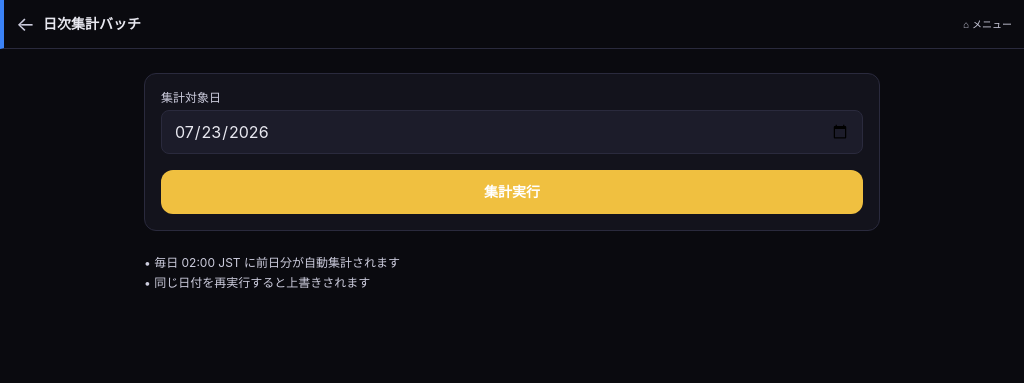
Scenario: DailyStatsAdmin › 成功時に「N ブース分の集計が完了しました」が表示される
Click the button "集計実行" at point(512, 192), box [161,170,863,214]
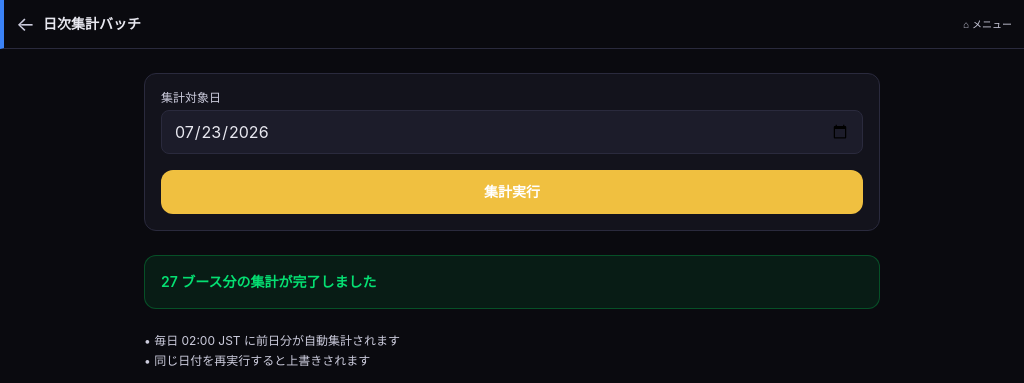
Result: the text "27 ブース分の集計が完了しました" is shown at [144,255,880,309]
